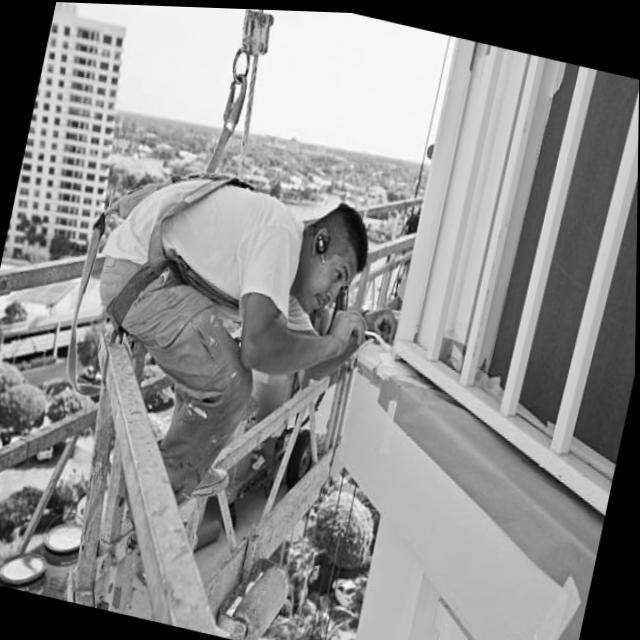belt: (88, 148, 308, 374)
